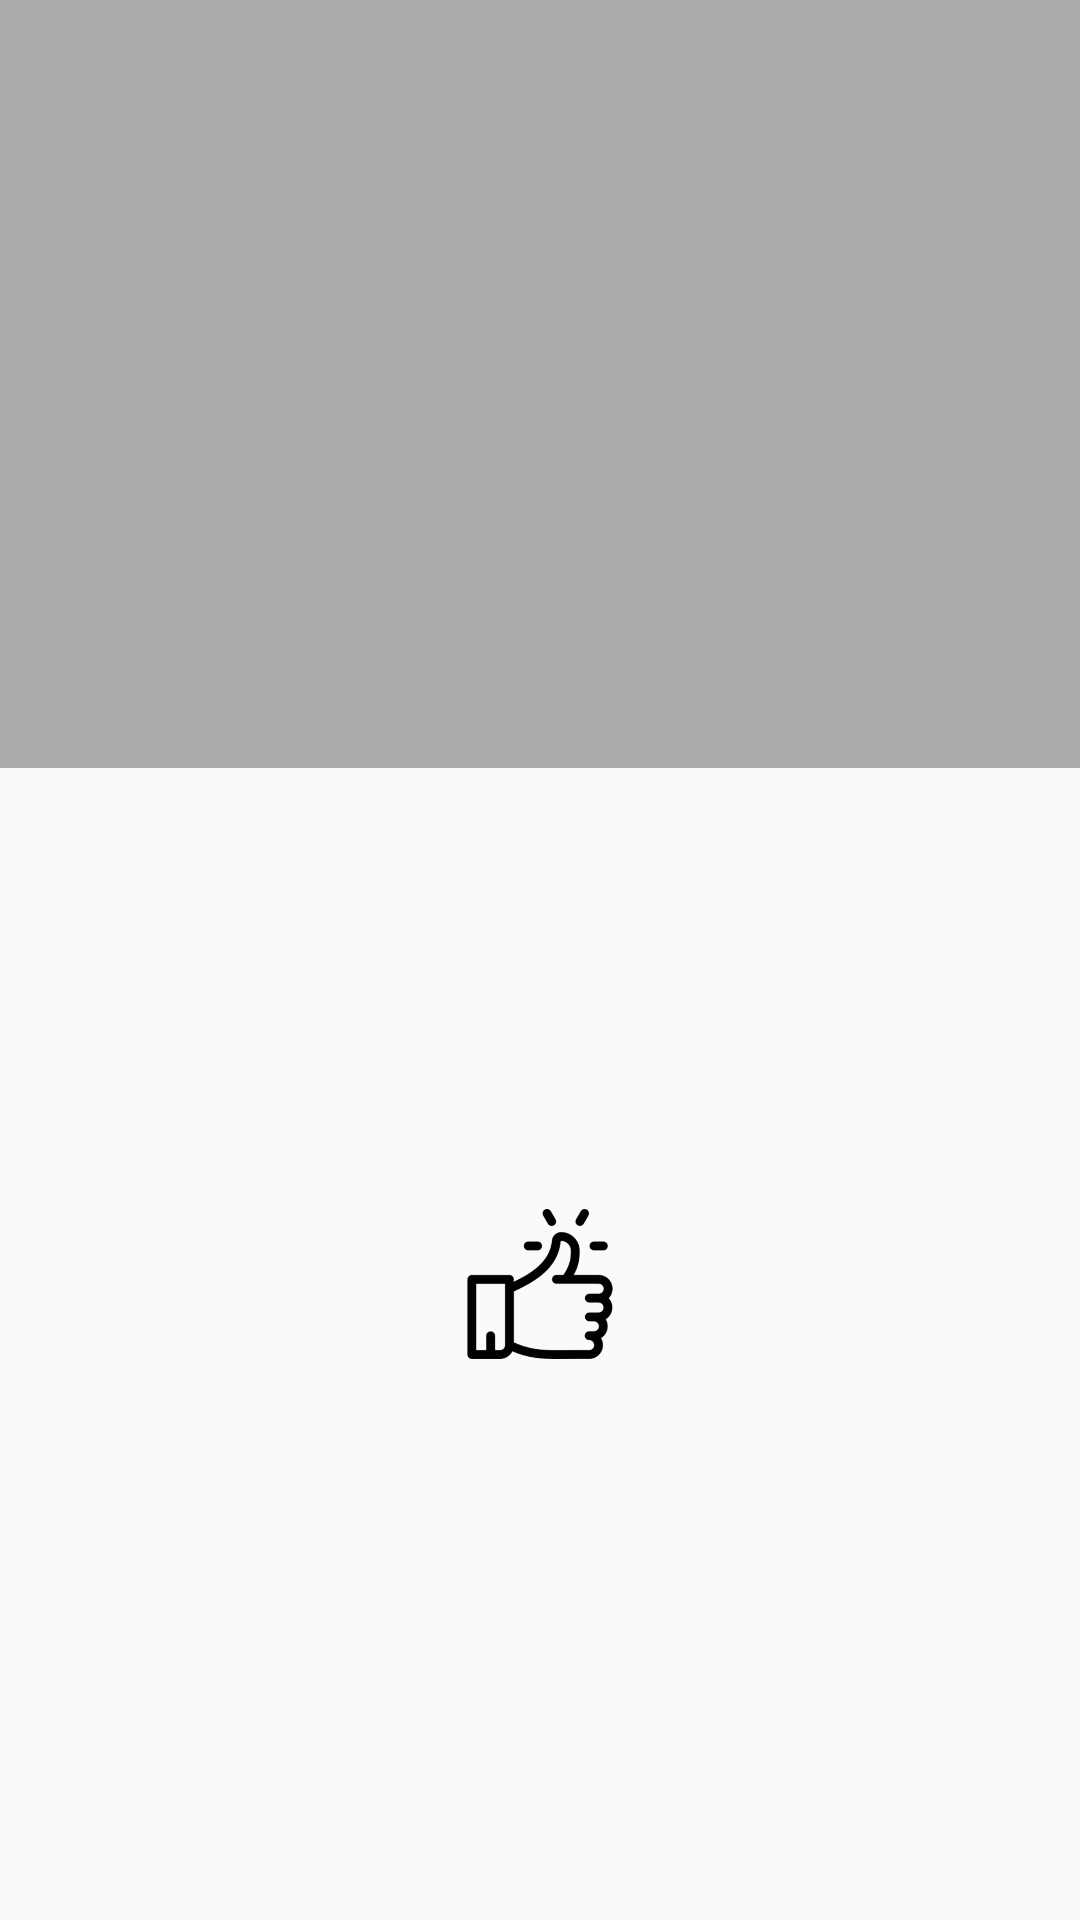

Screen size 1080w x 1920h. Icon name, then its center in pixels as (x,y):
like: (540,1284)
